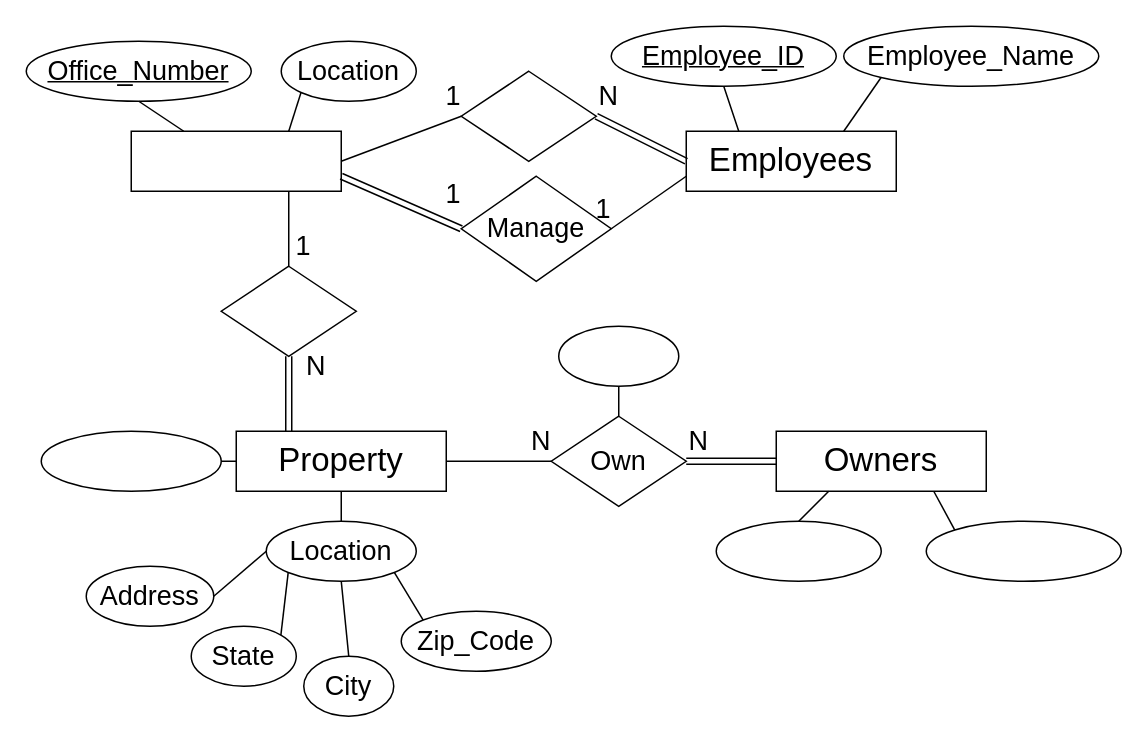
The diagram is 1148 pixels wide and 743 high, and some of its shapes have lost their labels. The shapes that lost their labels are listed below. From the top down, each one's centre as x and y in pixels, then its label:
At (528,115): "Works".
At (235,160): "Sales Office".
At (288,310): "List".
At (618,355): "Percent".
At (130,460): "Property_ID".
At (798,550): "Owner_ID".
At (1023,550): "Owner_Name".
